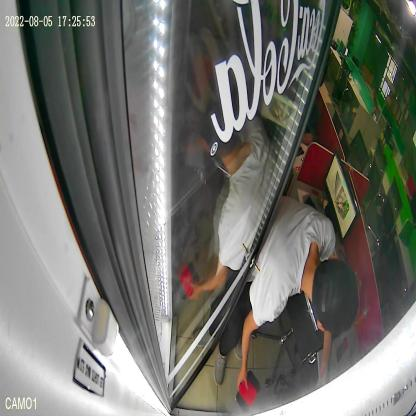red: (236, 370, 260, 413)
